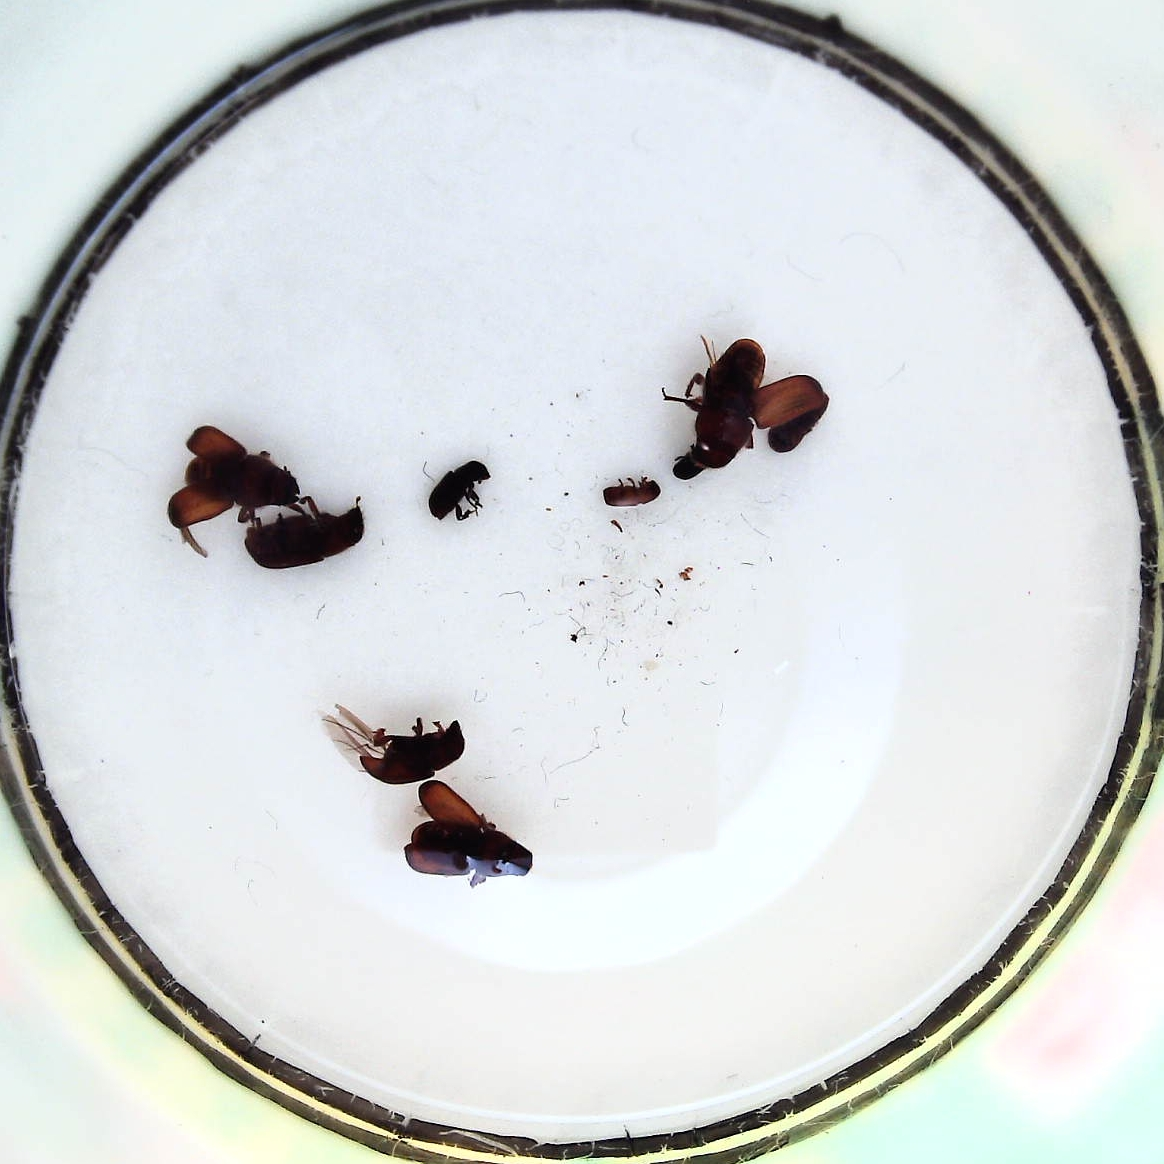Leconte: (663, 337, 820, 466), (397, 781, 541, 886), (166, 427, 305, 532), (322, 704, 469, 786), (246, 499, 366, 573)
acuminatus: (600, 479, 663, 507)
armandi: (425, 457, 498, 519)
